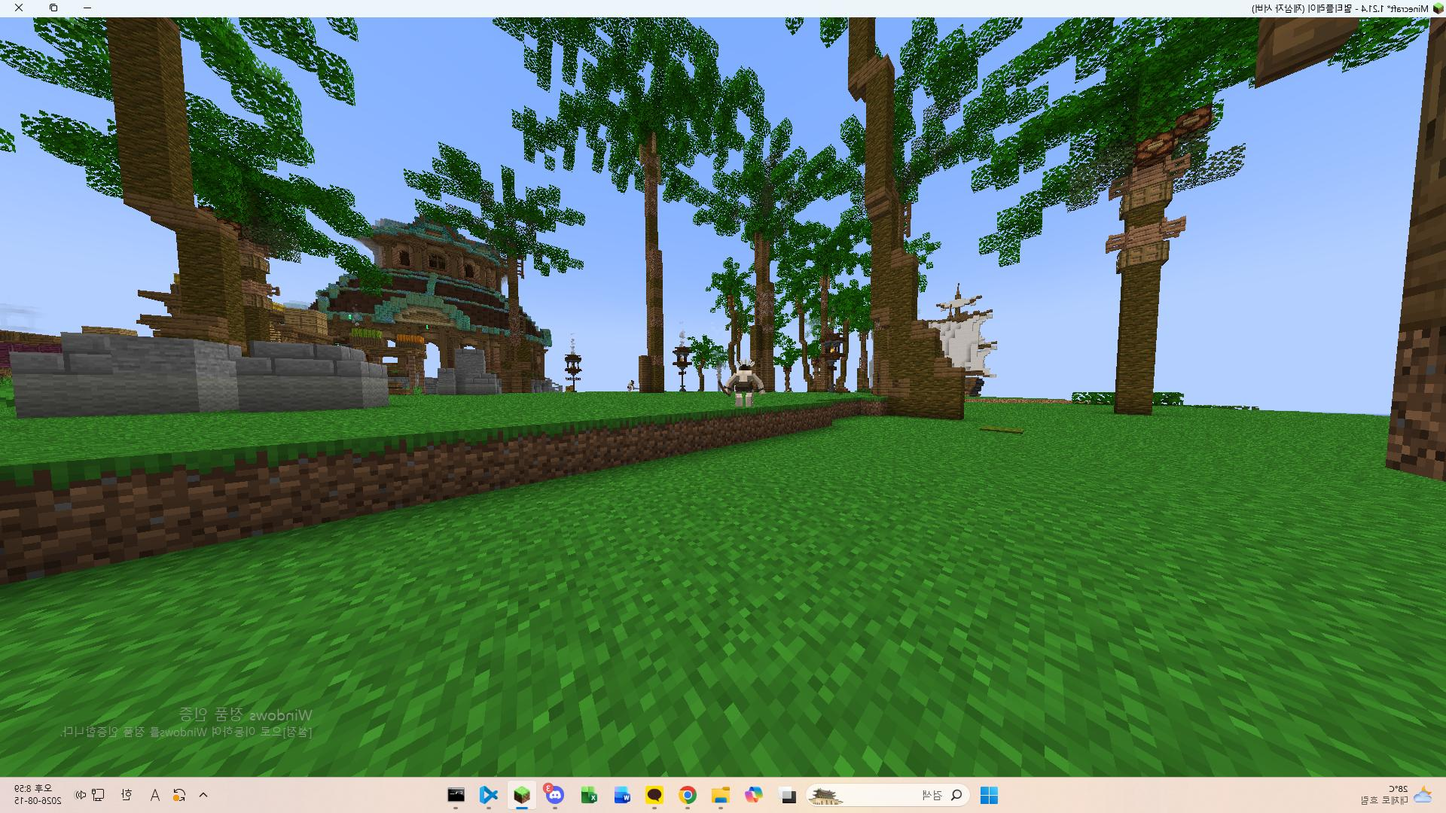bow_indian: (714, 347, 774, 417)
